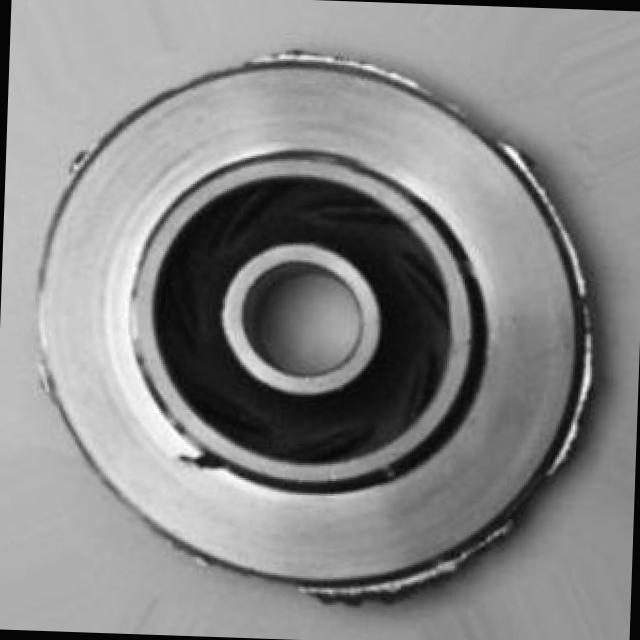Defect: (178, 436, 235, 488)
